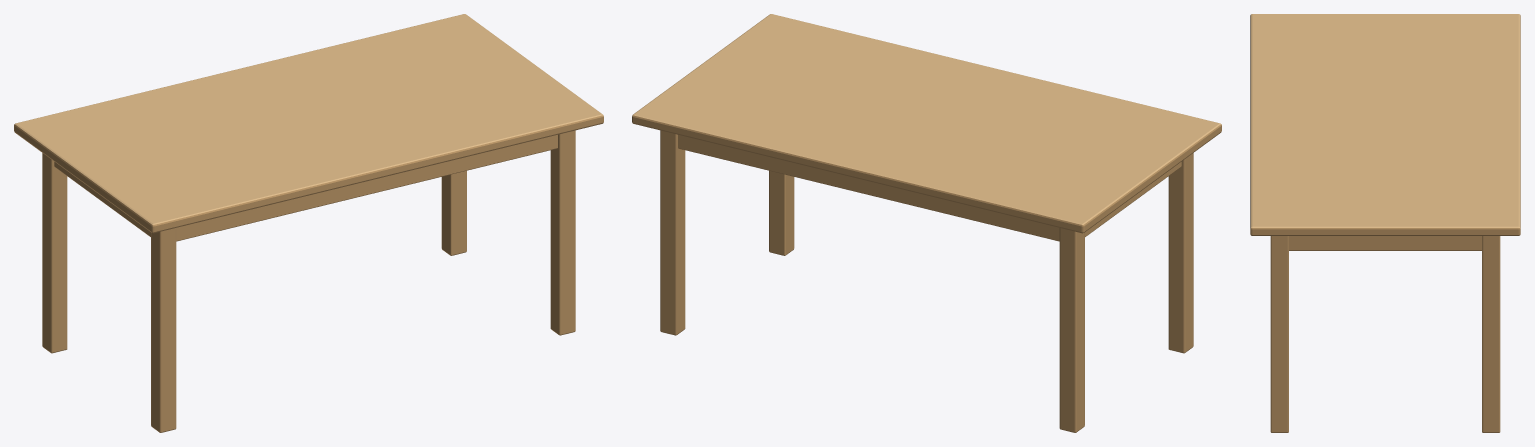
Rendered from dining_table.obj.
3 views of the same model, side by side, from view 1: azimuth 30°, elevation 25°; view 2: azimuth 150°, elevation 25°; view 3: azimuth 270°, elevation 25° (orthographic). The views are drawn at different scales.
Visible parts, largest first — view 1: dining_table; view 2: dining_table; view 3: dining_table.
Part boxes in pixels (bbox=[...]): dining_table: bbox=[14, 14, 603, 432]; dining_table: bbox=[632, 14, 1221, 432]; dining_table: bbox=[1250, 14, 1520, 432].
Bounding box in the file's own units: 150 × 70 × 80.
Materials: 1 (1 with a texture image).
